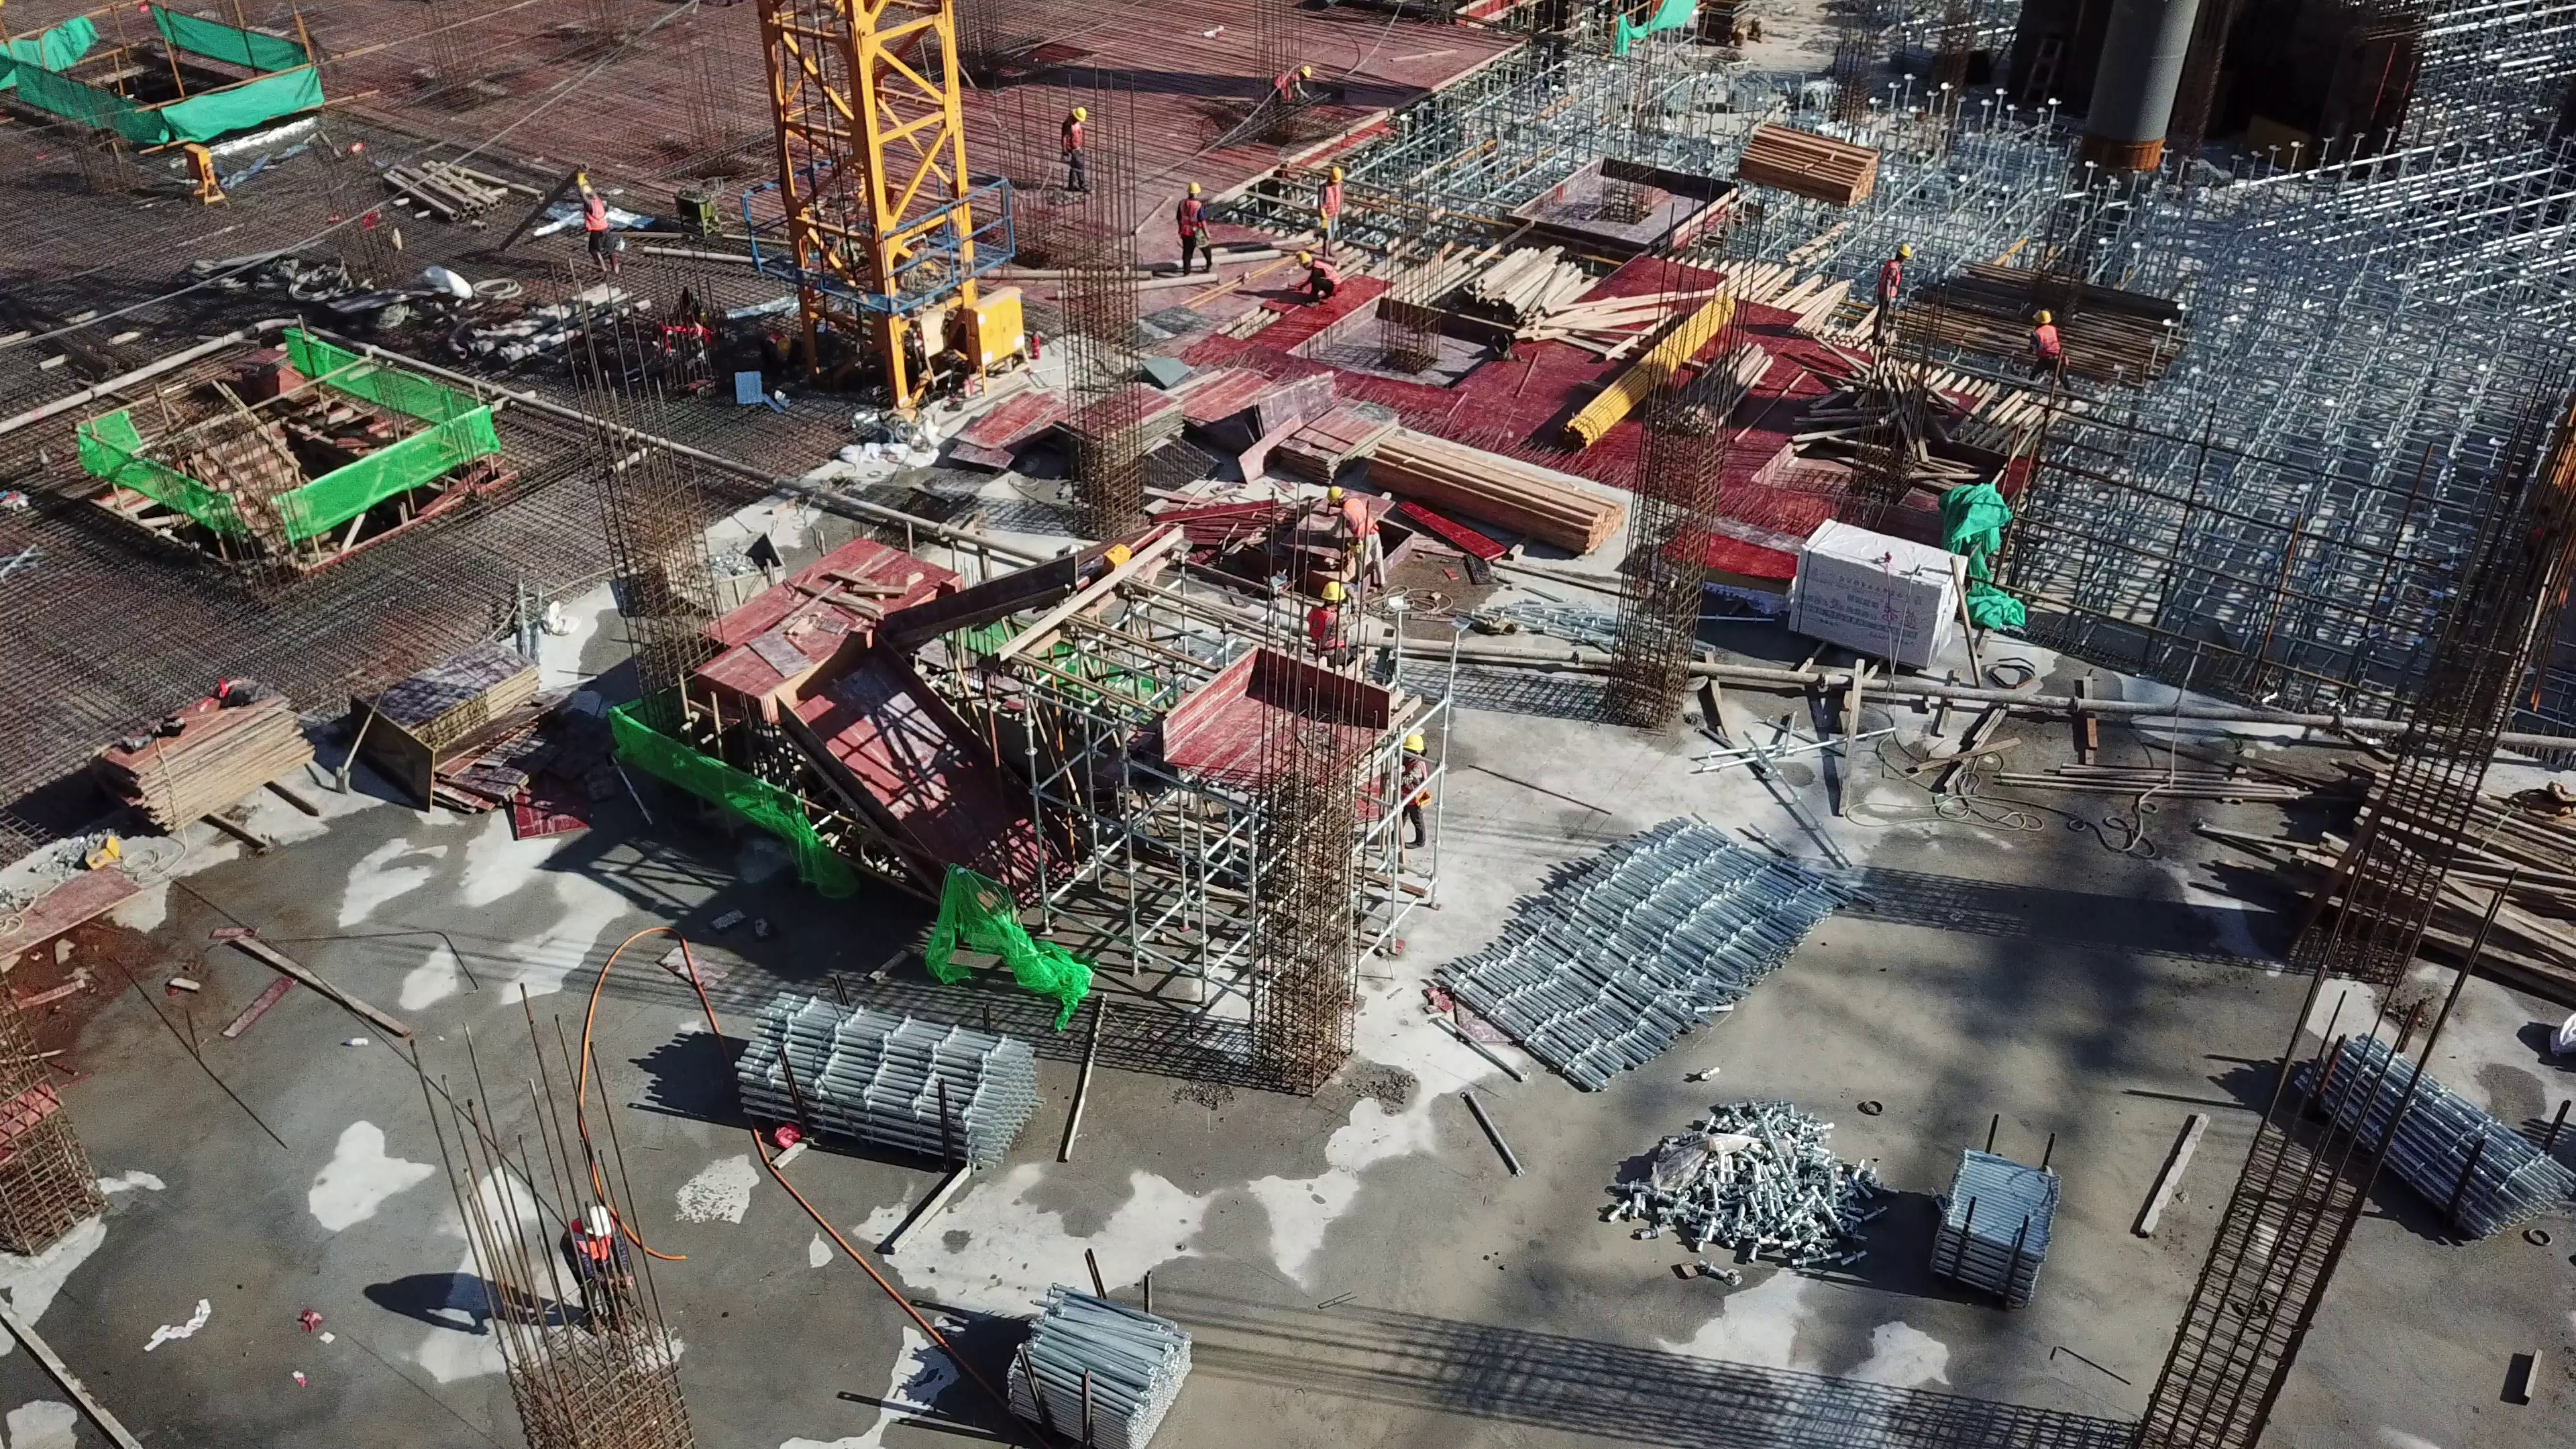board: (87, 686, 297, 847), (353, 637, 533, 814)
person: (554, 1185, 633, 1325), (1327, 479, 1394, 587), (1870, 234, 1919, 360), (563, 179, 618, 286), (1059, 91, 1099, 208), (2030, 305, 2080, 398), (1169, 184, 1210, 290), (1303, 584, 1359, 649), (1312, 162, 1347, 264)
scaffold: (1423, 823, 1849, 1077), (2281, 1024, 2576, 1254), (732, 989, 1044, 1173), (989, 1296, 1189, 1449), (1931, 1147, 2074, 1307)
wood: (2304, 777, 2576, 1004), (1374, 430, 1619, 561), (1414, 240, 1654, 345)
